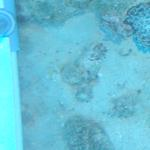dead: (21, 4, 148, 146)
